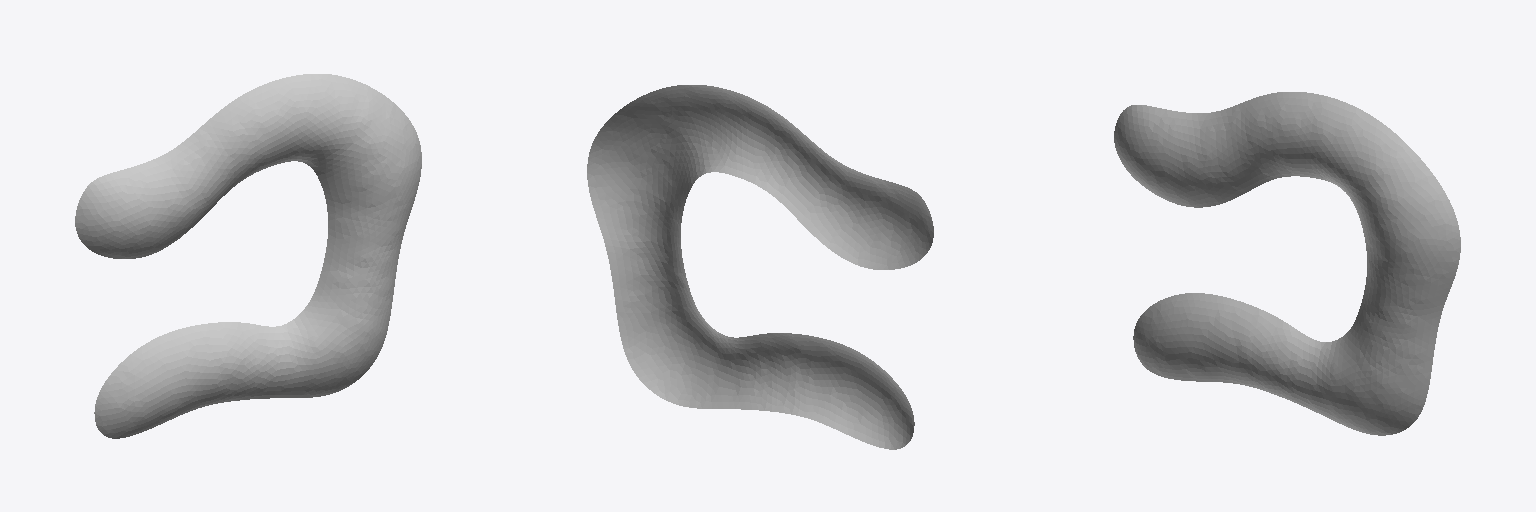
File: mall1.obj
The picture shows the model from 3 angles: view 1: azimuth 30°, elevation 25°; view 2: azimuth 150°, elevation 25°; view 3: azimuth 330°, elevation 25°; orthographic projection.
Size of the model in its own units: 241 by 218 by 18.